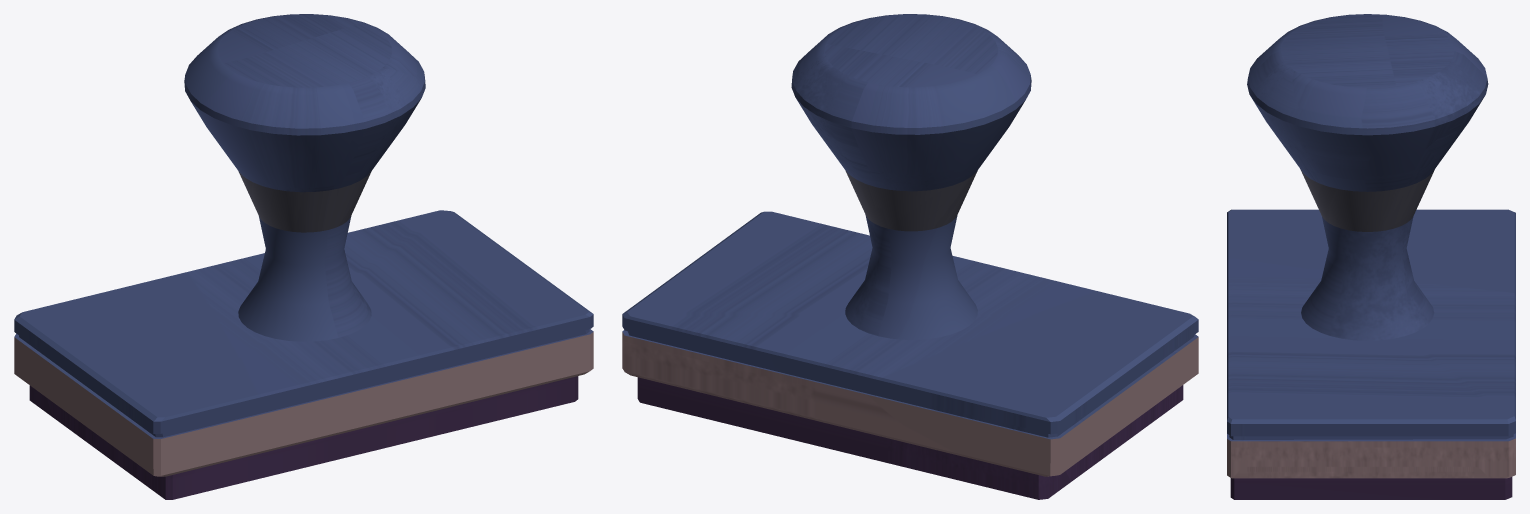
Rendered from StampV.fbx.
3 renders of one model, left to right at view 1: azimuth 30°, elevation 25°; view 2: azimuth 150°, elevation 25°; view 3: azimuth 270°, elevation 25°, orthographic.
Visible parts, largest first — view 1: Circle; view 2: Circle; view 3: Circle.
Boxes of the visible parts, <box> form: Circle: <box>14,14,593,499</box>; Circle: <box>622,14,1198,499</box>; Circle: <box>1227,14,1515,499</box>.
Size of the model in its own units: 413 by 313 by 235.
